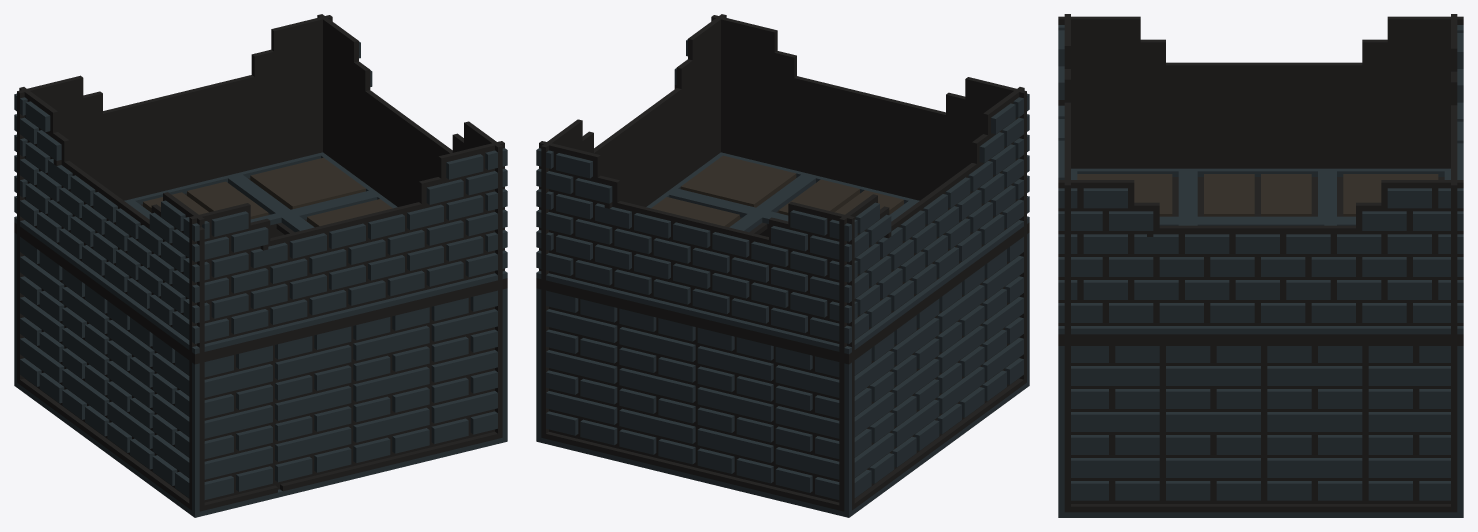
The model's file is tower_top.obj.
3 views of the same model, side by side, from view 1: azimuth 30°, elevation 25°; view 2: azimuth 150°, elevation 25°; view 3: azimuth 270°, elevation 25° (orthographic). The views are drawn at different scales.
Bounding box in the file's own units: 6.4 × 5.8 × 6.4.
1 material, 1 textured.
